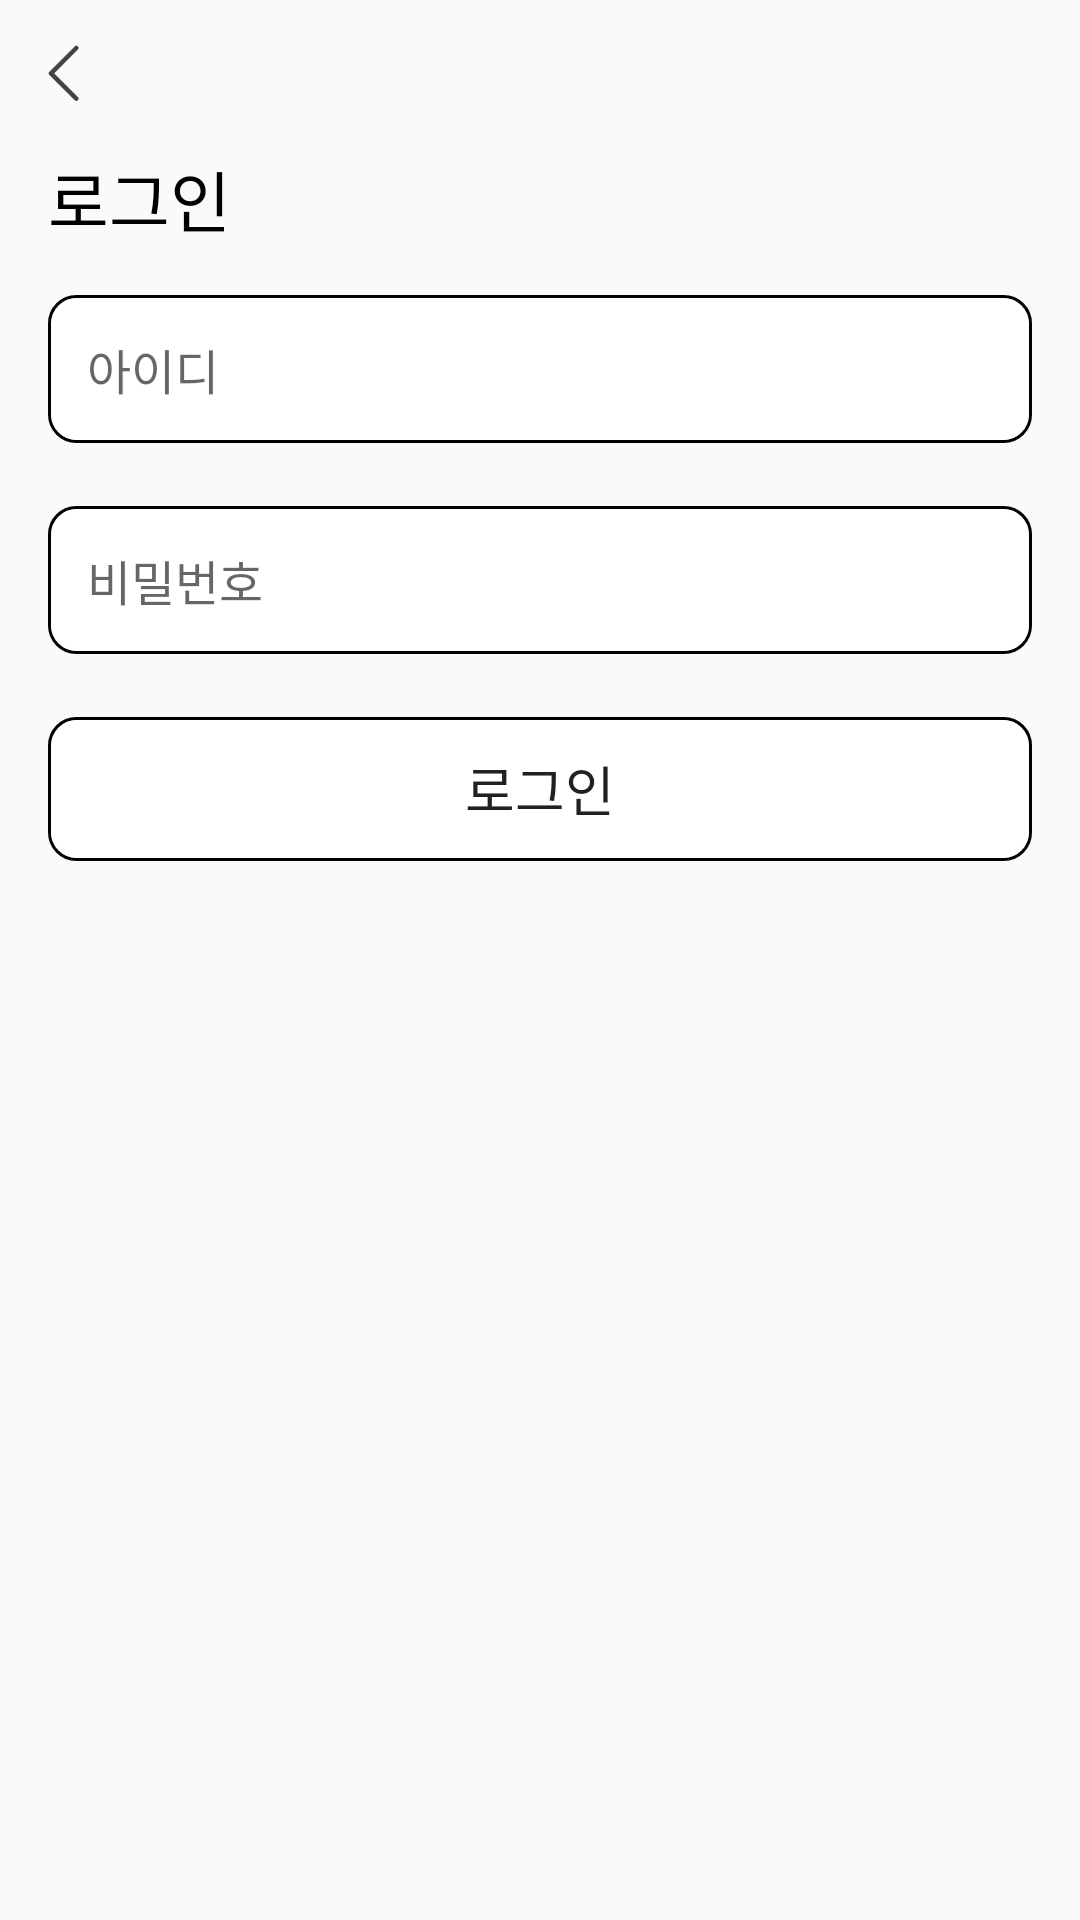

Named icons in this screenshot (1080×1920) and their centers, (x=x, y=y):
back: (x=63, y=73)
